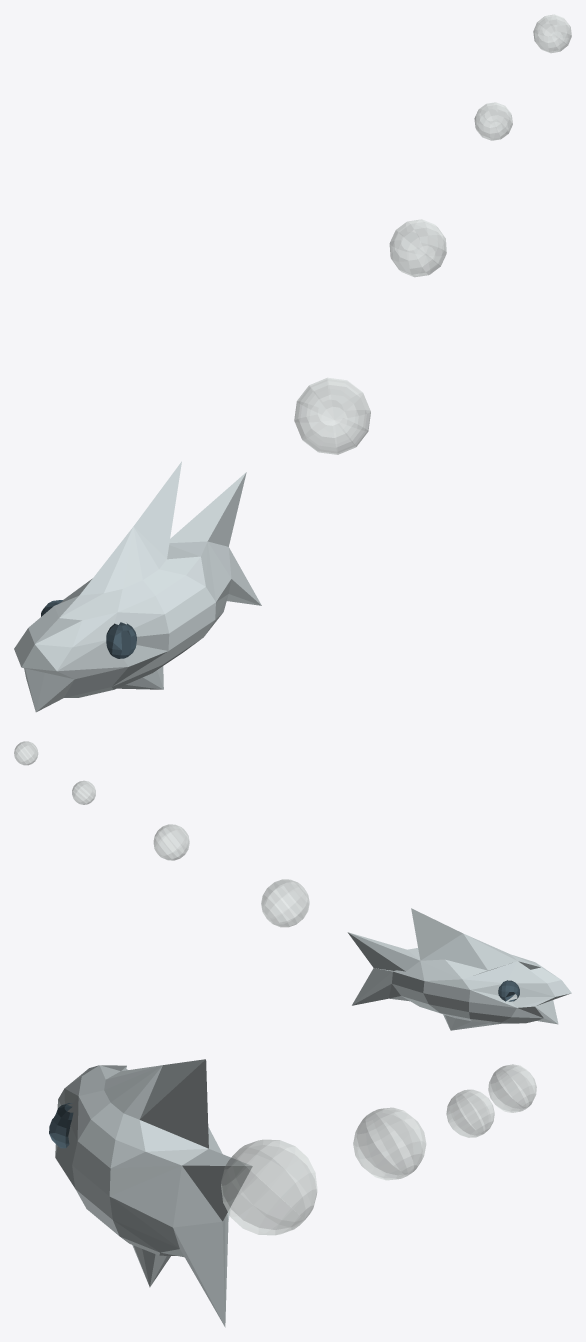
File: Fish_Bubbles.glb
3 views of the same model, one above another, from view 1: azimuth 30°, elevation 25°; view 2: azimuth 150°, elevation 25°; view 3: azimuth 270°, elevation 25° (orthographic). The views are drawn at different scales.
Parts seen in each view (by area): view 1: Node; view 2: Node; view 3: Node.
Part boxes in pixels (x1=…): Node: x1=14, y1=14, x2=571, y2=712; Node: x1=14, y1=741, x2=571, y2=1030; Node: x1=49, y1=1059, x2=536, y2=1327.
Size of the model in its own units: 0.4246 by 0.2467 by 0.1996.
